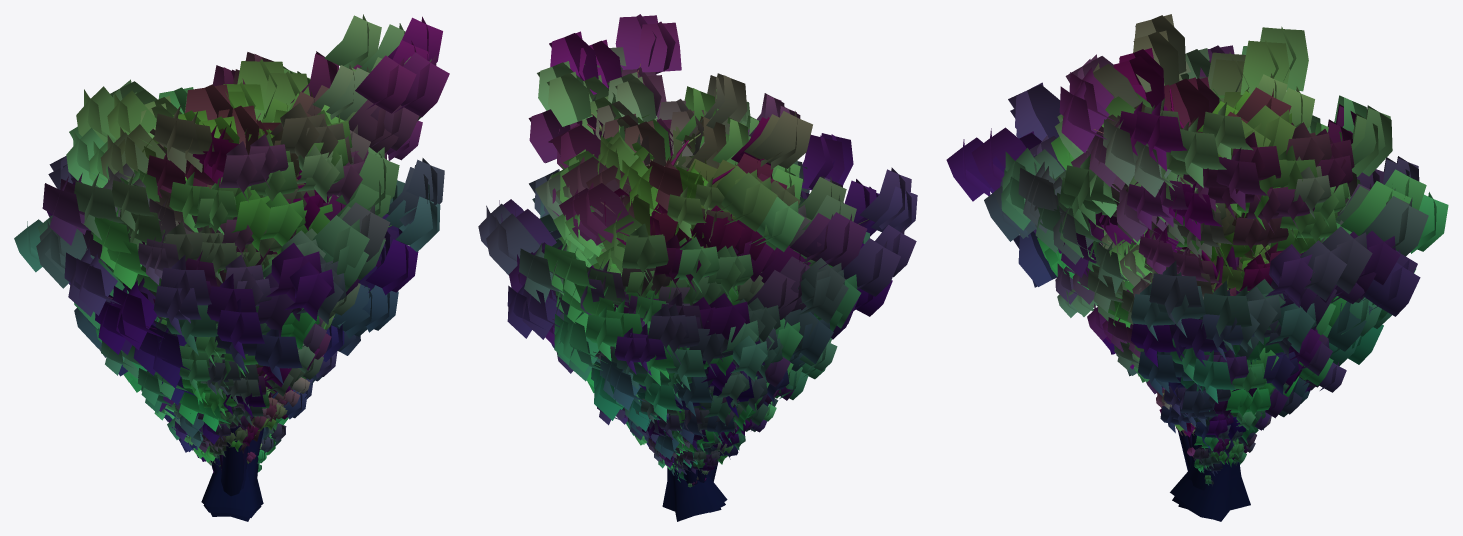
Rendered from trees_hornbeam.glb.
The picture shows the model from 3 angles, left to right: view 1: azimuth 30°, elevation 25°; view 2: azimuth 150°, elevation 25°; view 3: azimuth 270°, elevation 25°; orthographic projection. The views are drawn at different scales.
Visible parts, largest first — view 1: hornbeam_ancient_04_LOD0, hornbeam_ancient_03_LOD0, hornbeam_ancient_02_LOD0, hornbeam_mature_04_LOD0, hornbeam_ancient_01_LOD0, hornbeam_mature_02_LOD0, hornbeam_young_02_LOD0, hornbeam_young_04_LOD0, hornbeam_mature_01_LOD0; view 2: hornbeam_ancient_04_LOD0, hornbeam_ancient_02_LOD0, hornbeam_ancient_03_LOD0, hornbeam_mature_04_LOD0, hornbeam_mature_02_LOD0, hornbeam_young_04_LOD0, hornbeam_young_02_LOD0, hornbeam_ancient_01_LOD0; view 3: hornbeam_ancient_04_LOD0, hornbeam_ancient_02_LOD0, hornbeam_mature_04_LOD0, hornbeam_ancient_03_LOD0, hornbeam_mature_02_LOD0, hornbeam_young_02_LOD0, hornbeam_young_04_LOD0, hornbeam_mature_01_LOD0.
Part boxes in pixels (box(x1,y1,x2,y2)): hornbeam_ancient_04_LOD0: box(36, 14, 449, 510); hornbeam_ancient_03_LOD0: box(66, 64, 440, 517); hornbeam_ancient_02_LOD0: box(14, 70, 422, 486); hornbeam_mature_04_LOD0: box(98, 283, 360, 474); hornbeam_ancient_01_LOD0: box(138, 195, 345, 521); hornbeam_mature_02_LOD0: box(159, 314, 334, 464); hornbeam_young_02_LOD0: box(184, 377, 310, 462); hornbeam_young_04_LOD0: box(154, 355, 323, 471); hornbeam_mature_01_LOD0: box(271, 351, 337, 419); hornbeam_ancient_04_LOD0: box(478, 14, 917, 521); hornbeam_ancient_02_LOD0: box(535, 101, 843, 486); hornbeam_ancient_03_LOD0: box(499, 72, 810, 515); hornbeam_mature_04_LOD0: box(545, 323, 837, 482); hornbeam_mature_02_LOD0: box(597, 387, 793, 459); hornbeam_young_04_LOD0: box(617, 401, 776, 473); hornbeam_young_02_LOD0: box(634, 435, 733, 482); hornbeam_ancient_01_LOD0: box(624, 272, 764, 512); hornbeam_ancient_04_LOD0: box(946, 14, 1448, 521); hornbeam_ancient_02_LOD0: box(1029, 73, 1391, 490); hornbeam_mature_04_LOD0: box(1055, 225, 1333, 421); hornbeam_ancient_03_LOD0: box(1065, 46, 1371, 519); hornbeam_mature_02_LOD0: box(1057, 283, 1346, 447); hornbeam_young_02_LOD0: box(1156, 390, 1271, 475); hornbeam_young_04_LOD0: box(1130, 364, 1270, 458); hornbeam_mature_01_LOD0: box(1126, 289, 1288, 448).
Size of what is drawn, in the model's own units: 21.52 by 24.62 by 23.
